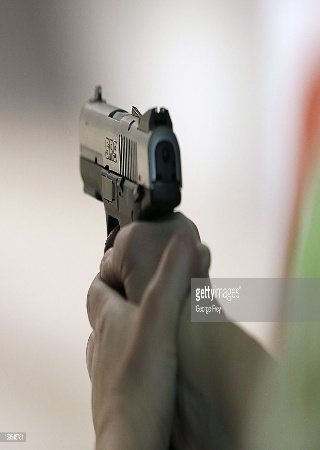handgun: (73, 79, 184, 235)
